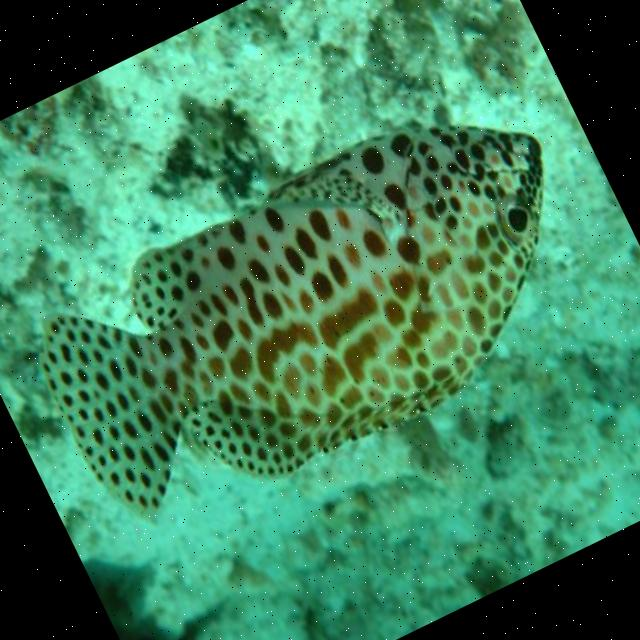ikan: (9, 69, 626, 561)
